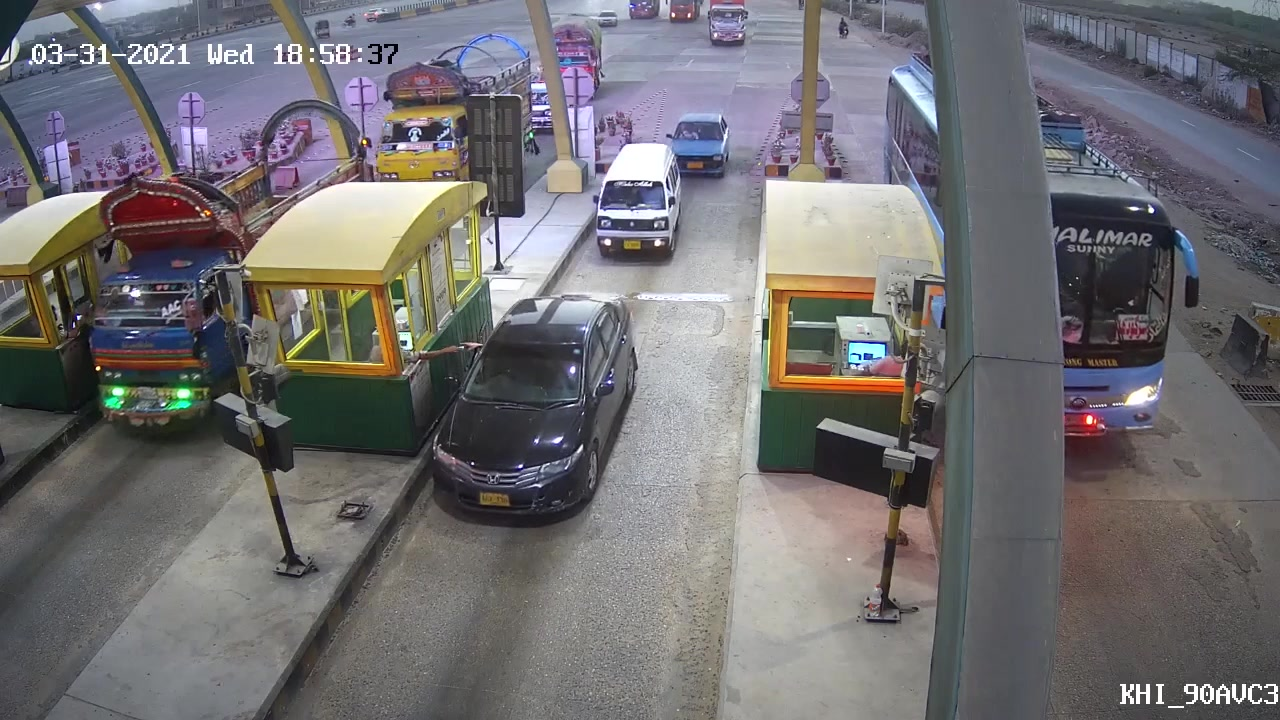F1: (421, 284, 639, 522), (588, 142, 694, 264)
